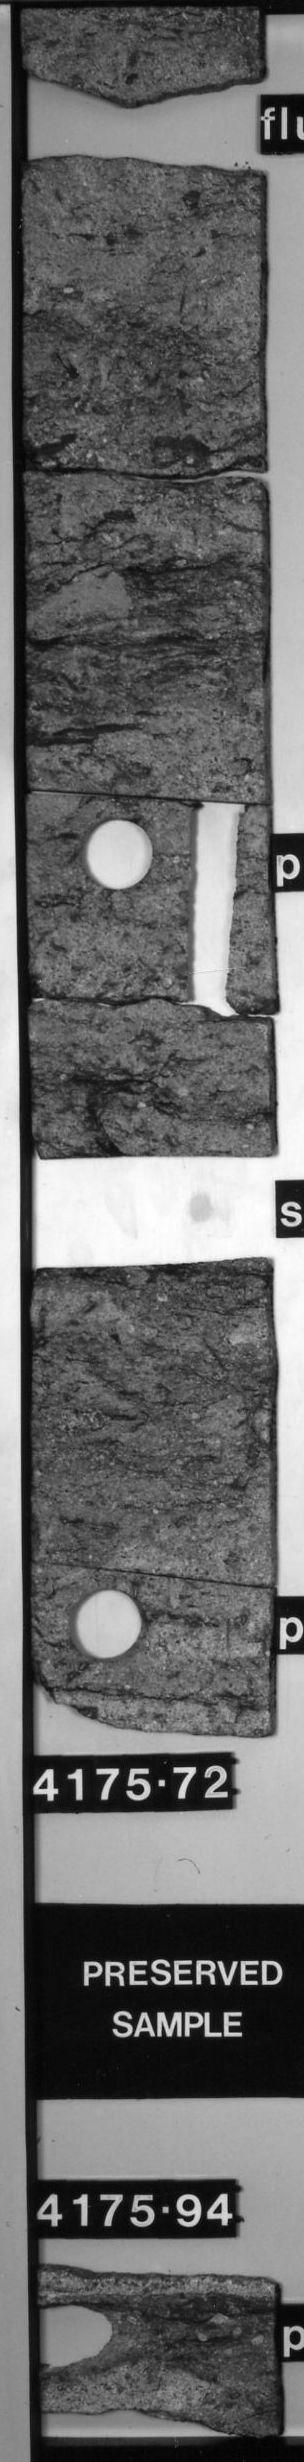hplug: (31, 63, 262, 190), (71, 801, 169, 900), (41, 2292, 154, 2379), (63, 1580, 150, 1668)
scal: (33, 1121, 273, 1299)
vplug: (172, 793, 254, 1025)
